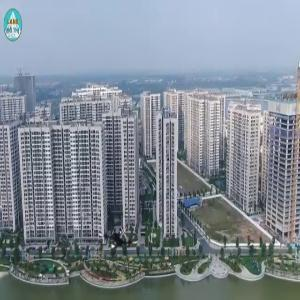drone: (97, 212, 142, 257)
